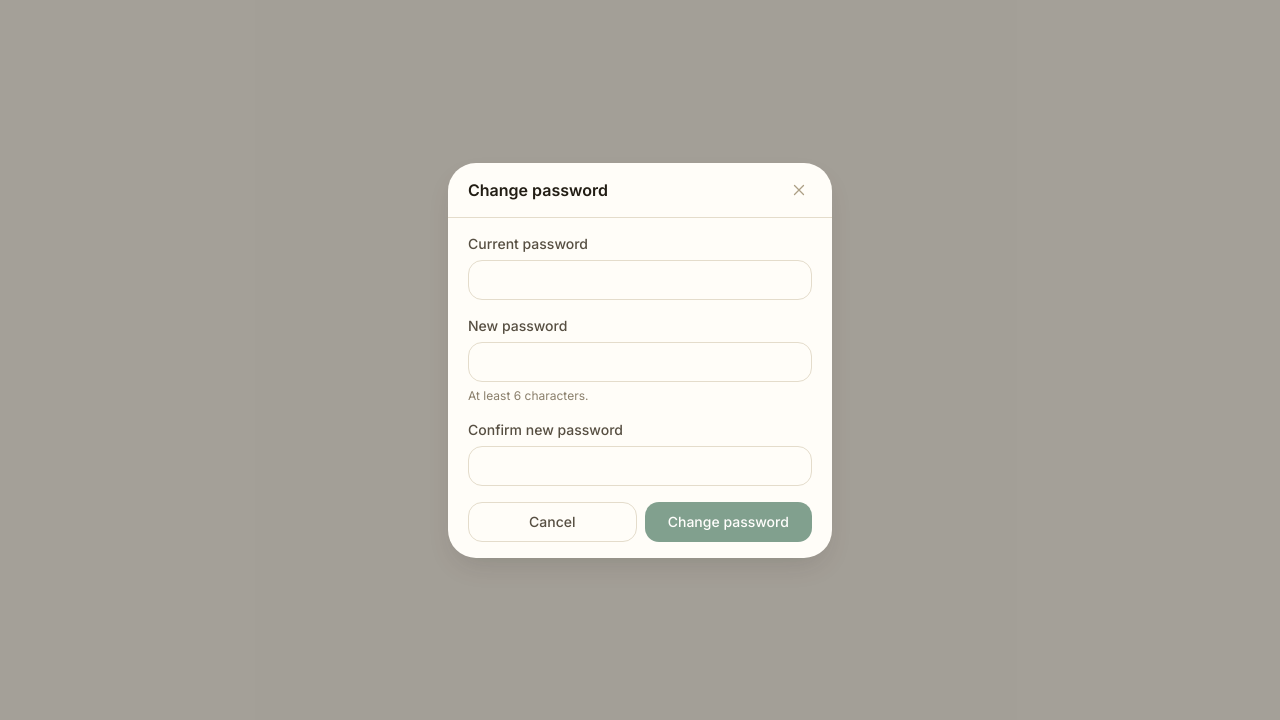
it: ChangePasswordModal › changes the password and confirms it worked
In the password field named "Current password": (640, 280) [468, 260, 812, 300], type "oldpass1"
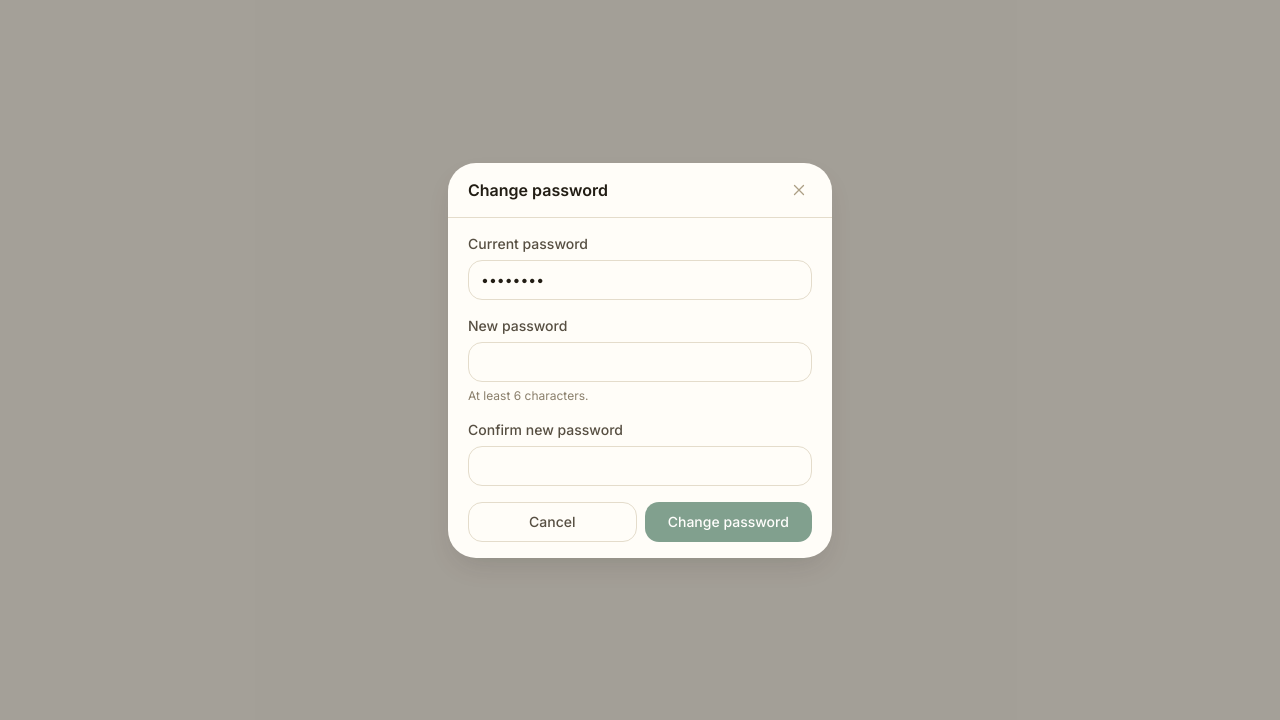
In the password field named "New password": (640, 362) [468, 342, 812, 382], type "newpass1"
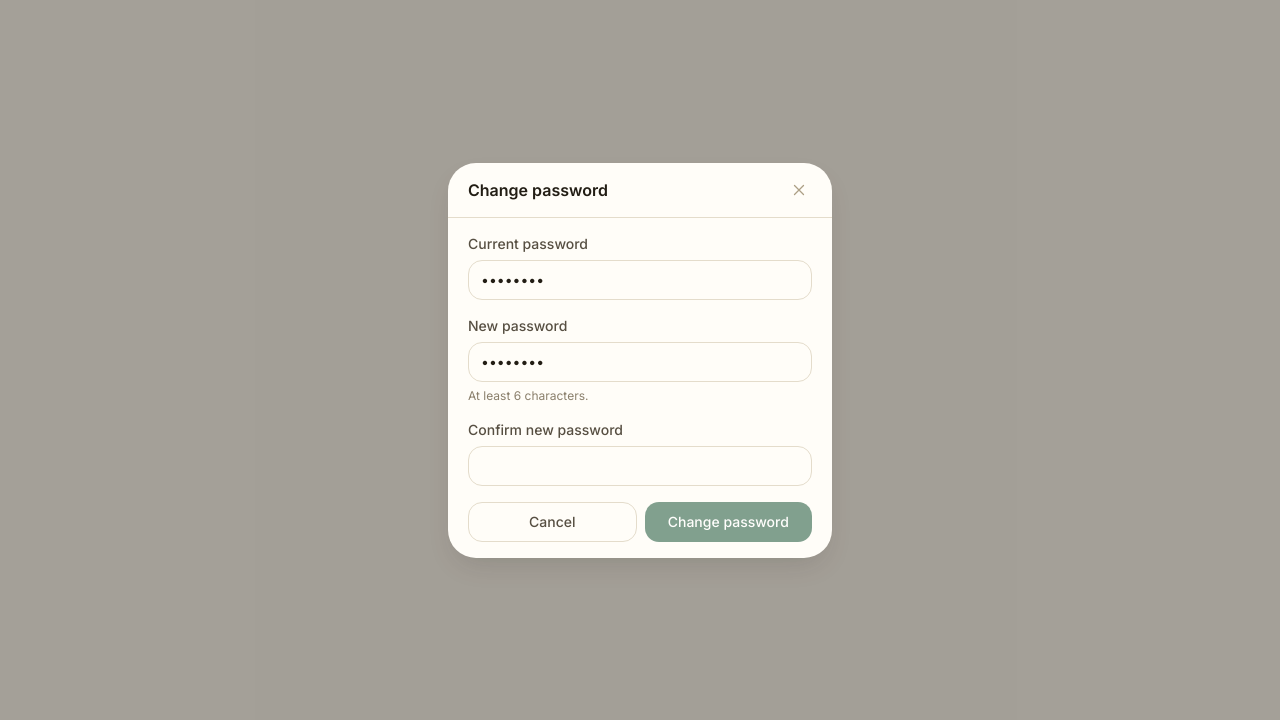
In the password field named "Confirm new password": (640, 466) [468, 446, 812, 486], type "newpass1"
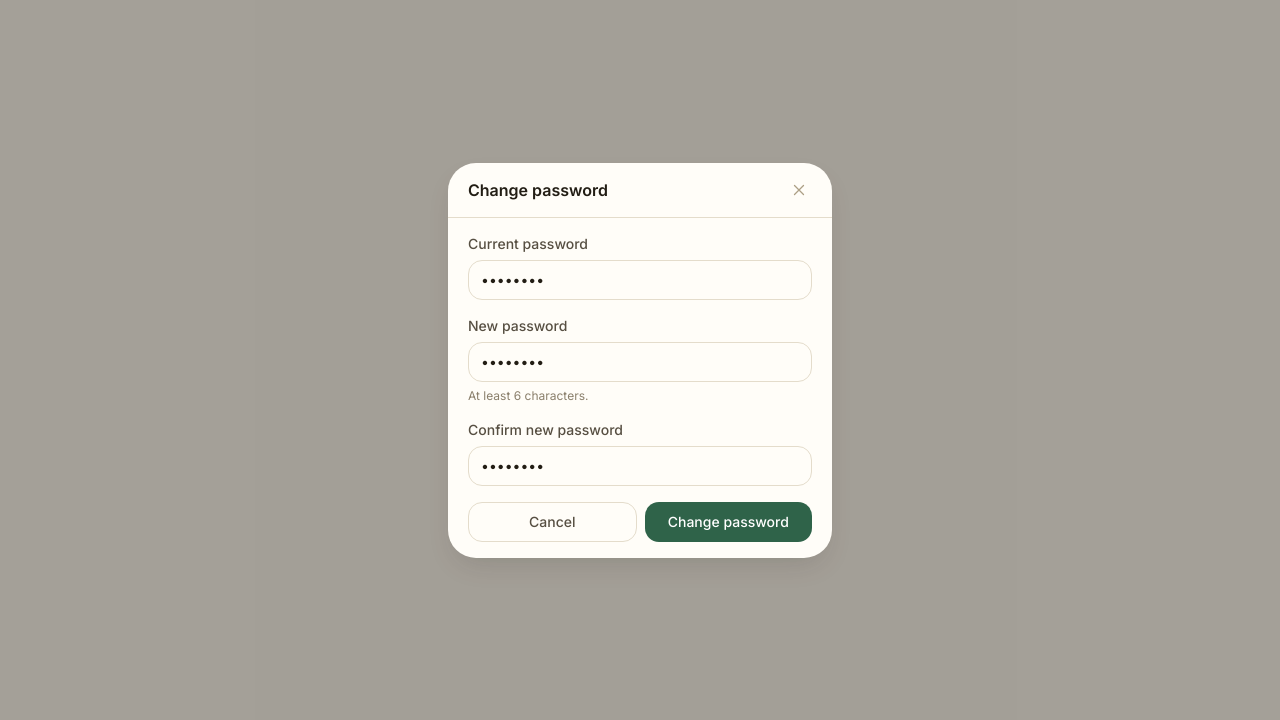
Click the button "Change password": click(728, 522) [645, 502, 812, 542]
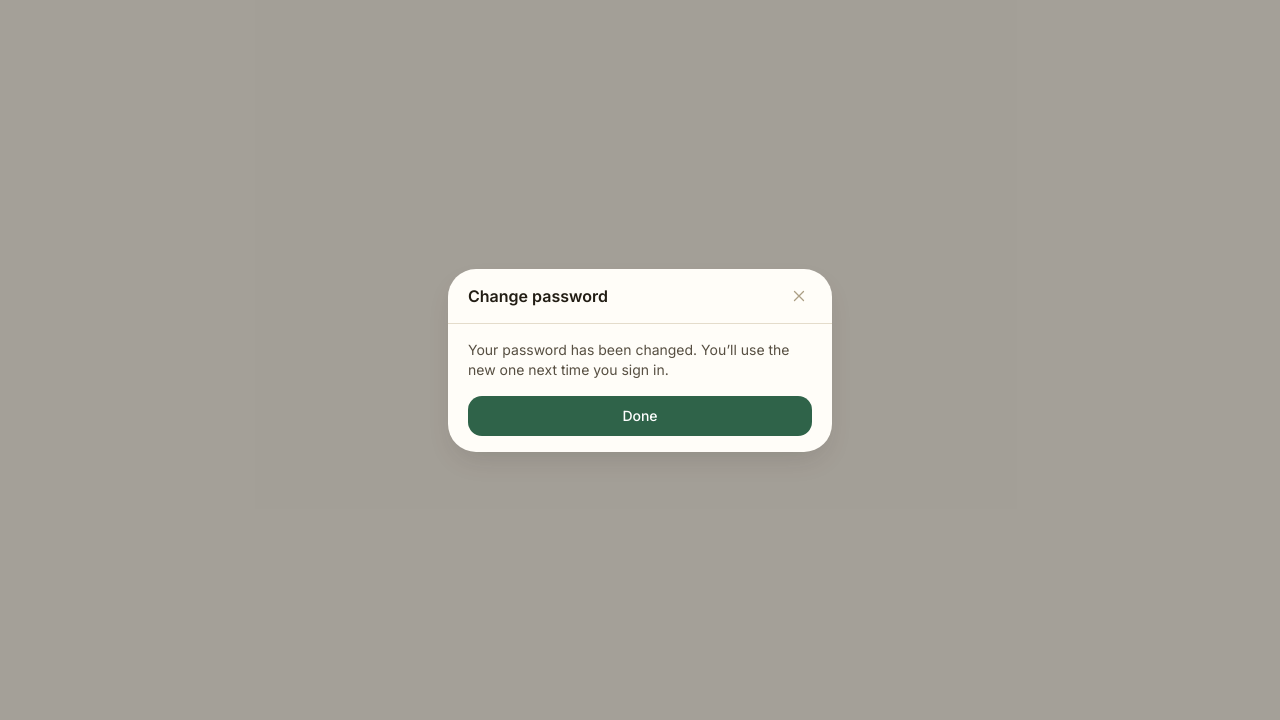
expect the text "password has been changed" is shown: met, box [468, 340, 790, 378]
